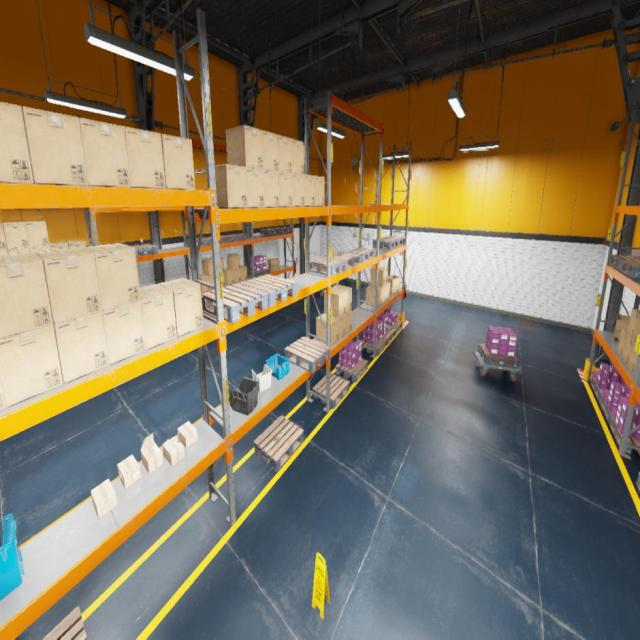box: (0, 324, 63, 407), (22, 106, 88, 185), (36, 247, 102, 323), (0, 252, 53, 338), (53, 311, 109, 383), (83, 243, 140, 311), (79, 117, 131, 187), (102, 300, 146, 365), (158, 278, 204, 337), (0, 101, 33, 183), (124, 126, 166, 189), (140, 284, 177, 349), (162, 133, 196, 190), (226, 124, 264, 169), (215, 164, 248, 208), (91, 478, 117, 518), (141, 433, 163, 474), (117, 455, 141, 488), (246, 168, 265, 208), (316, 313, 338, 346), (2, 222, 29, 248), (162, 436, 185, 466), (323, 288, 346, 318), (23, 220, 49, 246), (262, 130, 278, 171), (332, 285, 352, 313), (264, 170, 279, 207), (177, 421, 197, 448), (612, 314, 630, 342), (278, 135, 291, 172), (279, 171, 292, 206), (291, 139, 304, 174), (622, 334, 636, 366), (292, 173, 304, 206), (627, 309, 639, 341), (370, 266, 387, 287), (617, 327, 628, 359), (366, 285, 382, 307), (628, 341, 638, 375), (370, 284, 386, 304), (304, 174, 314, 206), (315, 176, 325, 206), (386, 275, 399, 294), (338, 313, 346, 340), (0, 376, 6, 410), (199, 274, 210, 292), (202, 258, 213, 276), (210, 258, 224, 272), (228, 268, 241, 283), (227, 254, 240, 269), (7, 247, 30, 255), (0, 222, 7, 248), (224, 268, 234, 286), (66, 240, 86, 248), (49, 242, 69, 250), (30, 245, 50, 253), (268, 258, 279, 272), (346, 309, 352, 334), (240, 265, 247, 281), (210, 275, 214, 290), (386, 282, 389, 301), (0, 250, 8, 256), (222, 272, 225, 287)
pallets: (254, 415, 304, 472), (202, 283, 268, 323), (240, 274, 297, 306), (285, 336, 330, 373), (312, 372, 350, 410), (42, 607, 87, 639), (609, 415, 640, 456), (478, 343, 518, 368), (336, 358, 368, 383), (310, 256, 348, 276), (325, 251, 361, 268), (609, 254, 639, 270), (362, 337, 386, 356), (590, 375, 608, 400), (619, 259, 640, 278), (346, 248, 374, 262), (599, 393, 612, 423), (131, 244, 157, 256), (372, 238, 398, 248), (380, 328, 395, 345), (382, 236, 406, 246), (187, 237, 211, 246), (206, 235, 230, 244), (388, 320, 402, 335), (226, 233, 249, 241), (247, 269, 269, 277), (260, 228, 280, 235), (323, 281, 339, 289), (273, 227, 292, 233), (636, 472, 640, 491), (209, 320, 217, 324)
